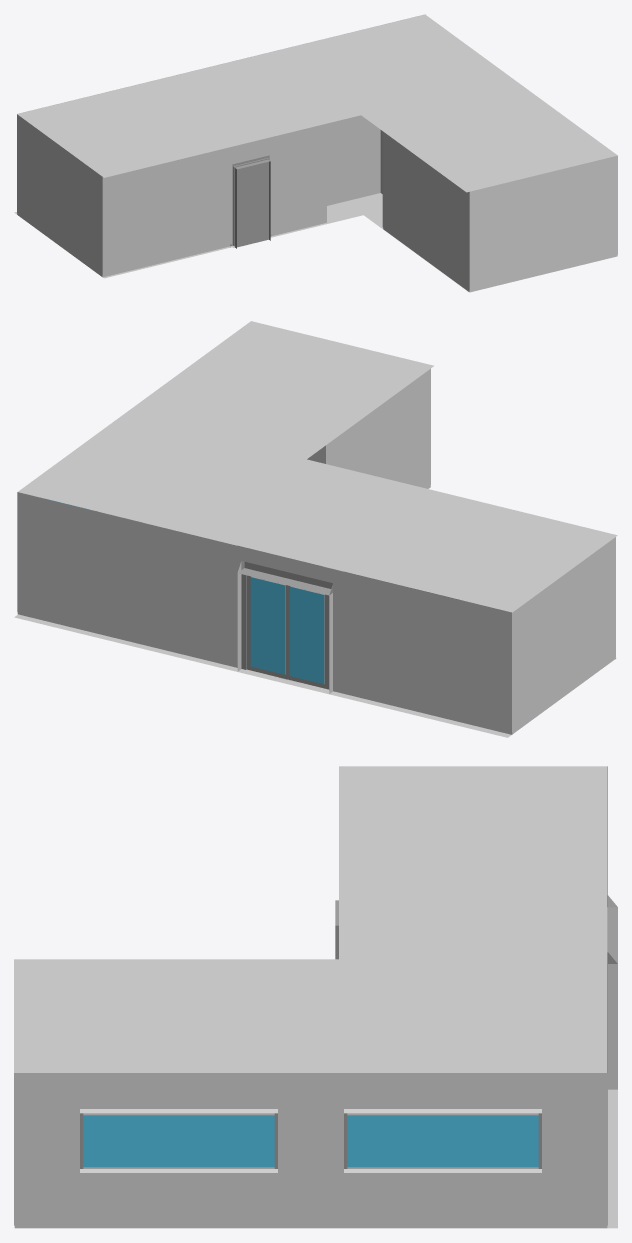
File: EdificioExterior.fbx
The picture shows the model from 3 angles, top to bottom: view 1: azimuth 30°, elevation 25°; view 2: azimuth 150°, elevation 25°; view 3: azimuth 270°, elevation 25°; orthographic projection. The views are drawn at different scales.
Parts seen in each view (by area): view 1: Techo Pasillo V2, ExteriorSalaEspera, PCsultaAbjoDer.002, PCsultaIzq, PCsultaAbjoIzq, PAseoIzq, PuertaRecepcion, SueloSalaEspera, MarcoPuertaRecepcion, SPRecepcion, EmbExtSalaEspera, PAseoAbjo; view 2: Techo Pasillo V2, ExteriorSalaEspera, PCsultaIzq, CristalDerechoPuerta, CristalIzquierdoPuerta, SueloSalaEspera, EmbExtSalaEspera, PuertaAutomaticaSuperior, PIzq Ppal, PDer Ppal; view 3: Techo Pasillo V2, ExteriorSalaEspera, Ctal Esp Abjo, Ctal Esp Arriba, EmbExtSalaEspera, SueloSalaEspera, MarcoVentanaRecepcionDer, MarcoVentanaRecepcionIzq, PuertaAutomaticaSuperior.
Boxes of the visible parts, x1=… form: Techo Pasillo V2: x1=17, y1=14, x2=617, y2=192; ExteriorSalaEspera: x1=17, y1=14, x2=617, y2=290; PCsultaAbjoDer.002: x1=102, y1=147, x2=232, y2=275; PCsultaIzq: x1=382, y1=131, x2=469, y2=290; PCsultaAbjoIzq: x1=269, y1=123, x2=326, y2=234; PAseoIzq: x1=327, y1=115, x2=374, y2=204; PuertaRecepcion: x1=237, y1=161, x2=268, y2=247; SueloSalaEspera: x1=14, y1=193, x2=469, y2=292; MarcoPuertaRecepcion: x1=230, y1=155, x2=271, y2=248; SPRecepcion: x1=232, y1=137, x2=269, y2=164; EmbExtSalaEspera: x1=17, y1=213, x2=617, y2=292; PAseoAbjo: x1=375, y1=125, x2=382, y2=192; Techo Pasillo V2: x1=18, y1=321, x2=617, y2=612; ExteriorSalaEspera: x1=17, y1=492, x2=615, y2=732; PCsultaIzq: x1=326, y1=368, x2=430, y2=488; CristalDerechoPuerta: x1=250, y1=577, x2=285, y2=674; CristalIzquierdoPuerta: x1=289, y1=586, x2=324, y2=684; SueloSalaEspera: x1=14, y1=487, x2=616, y2=737; EmbExtSalaEspera: x1=17, y1=485, x2=615, y2=734; PuertaAutomaticaSuperior: x1=238, y1=561, x2=332, y2=595; PIzq Ppal: x1=246, y1=575, x2=288, y2=679; PDer Ppal: x1=288, y1=585, x2=328, y2=689; Techo Pasillo V2: x1=14, y1=766, x2=607, y2=1072; ExteriorSalaEspera: x1=14, y1=766, x2=617, y2=1225; Ctal Esp Abjo: x1=347, y1=1115, x2=538, y2=1167; Ctal Esp Arriba: x1=83, y1=1115, x2=274, y2=1167; EmbExtSalaEspera: x1=14, y1=1225, x2=607, y2=1228; SueloSalaEspera: x1=607, y1=1089, x2=617, y2=1228; MarcoVentanaRecepcionDer: x1=80, y1=1113, x2=277, y2=1168; MarcoVentanaRecepcionIzq: x1=344, y1=1113, x2=541, y2=1168; PuertaAutomaticaSuperior: x1=607, y1=895, x2=617, y2=963.
Bounding box in the file's own units: 1115 × 264 × 915.
